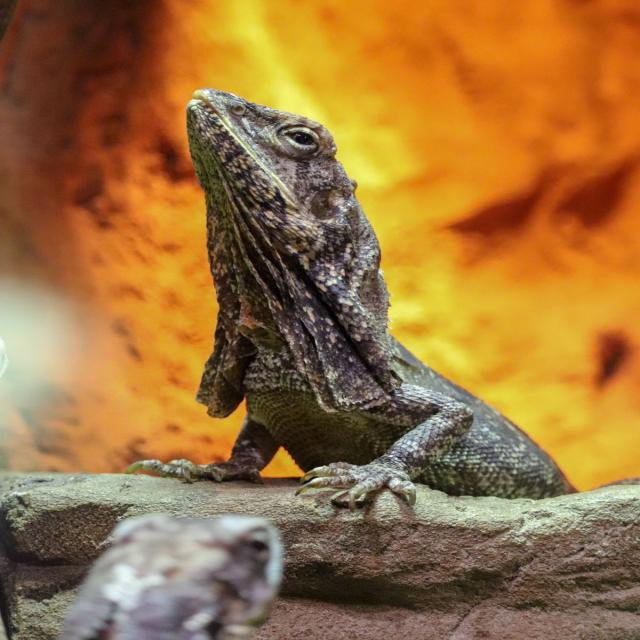Lizard: (123, 85, 580, 506)
